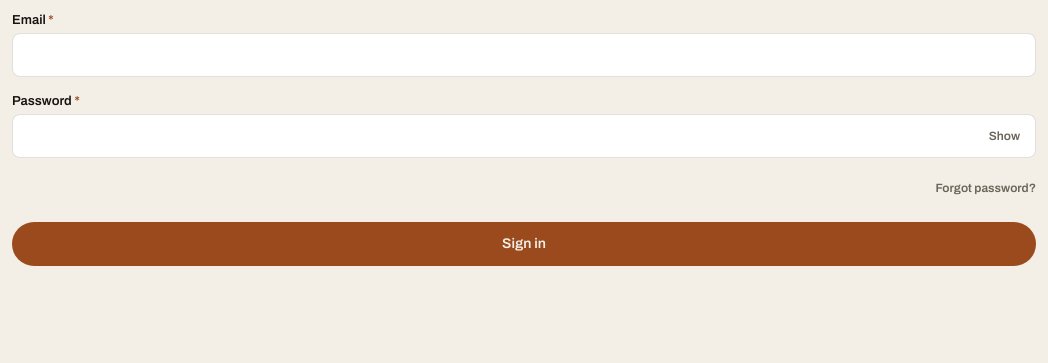
LoginForm › shows an inactive-account state when the backend code says so
Type "atharva@forgebuilds.in" into the field labelled "Email *". click: (524, 55)
box: [12,33,1036,77]
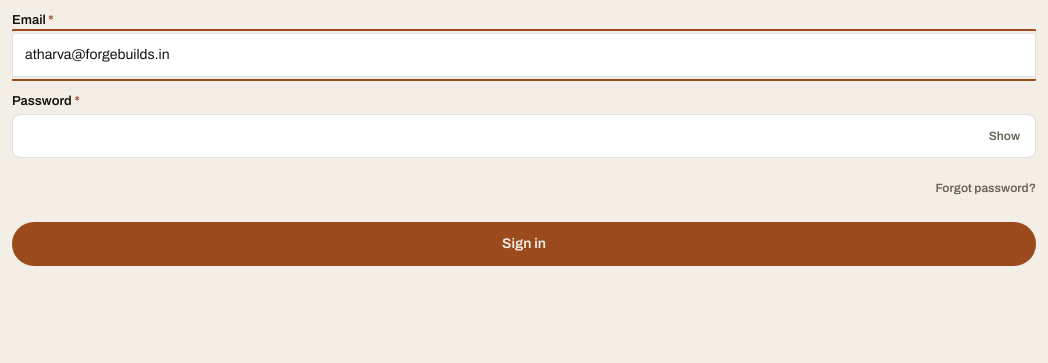
Type "secret" into the password field labelled "Password *". click: (524, 136)
box: [12,114,1036,158]
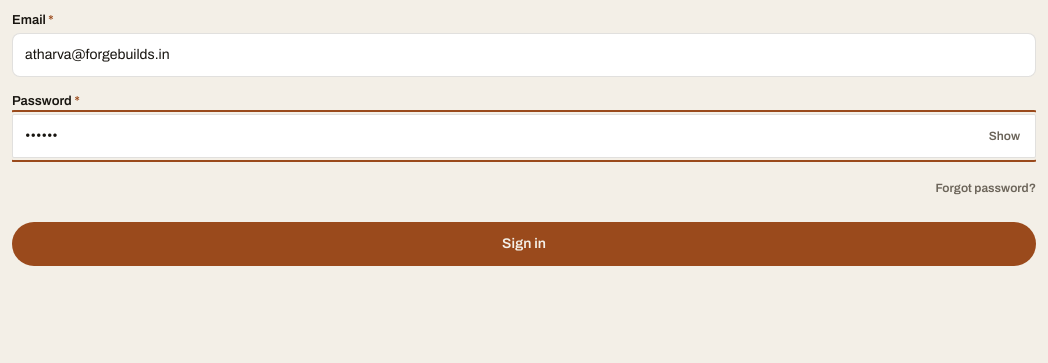
Click the button "Sign in". click: click(524, 244)
box: [12,222,1036,266]
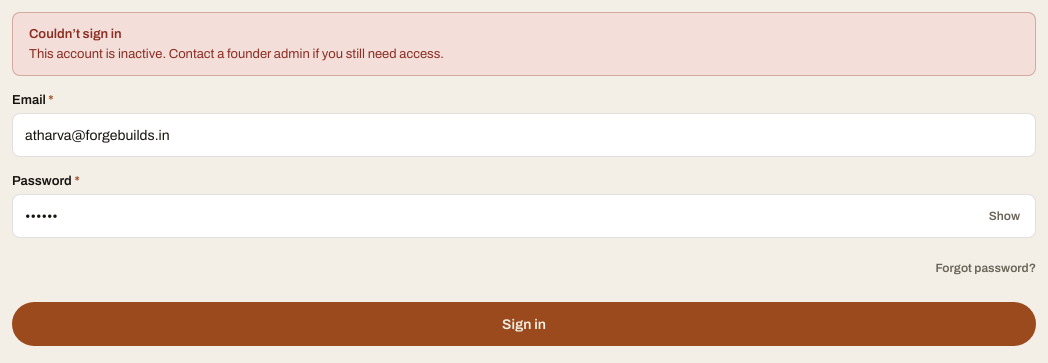
Result: the text "This account is inactive" is shown at [29,46,444,60]
